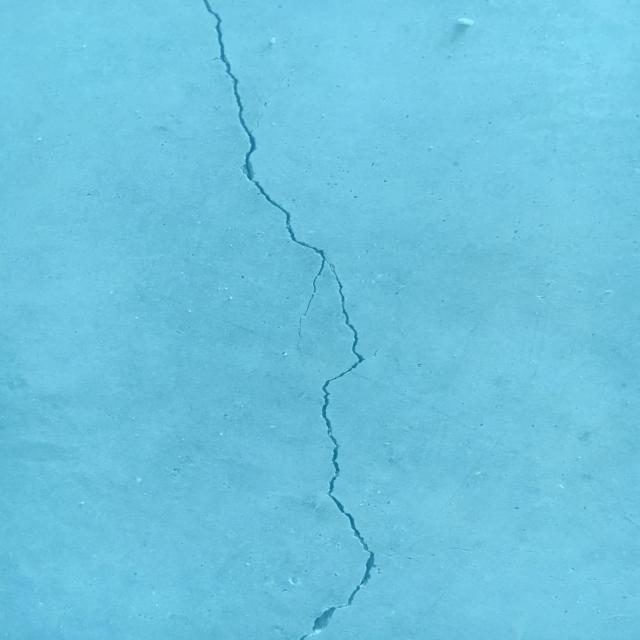crack: (201, 0, 413, 640), (472, 546, 566, 561), (586, 578, 640, 598), (416, 547, 474, 556), (562, 562, 576, 572)
